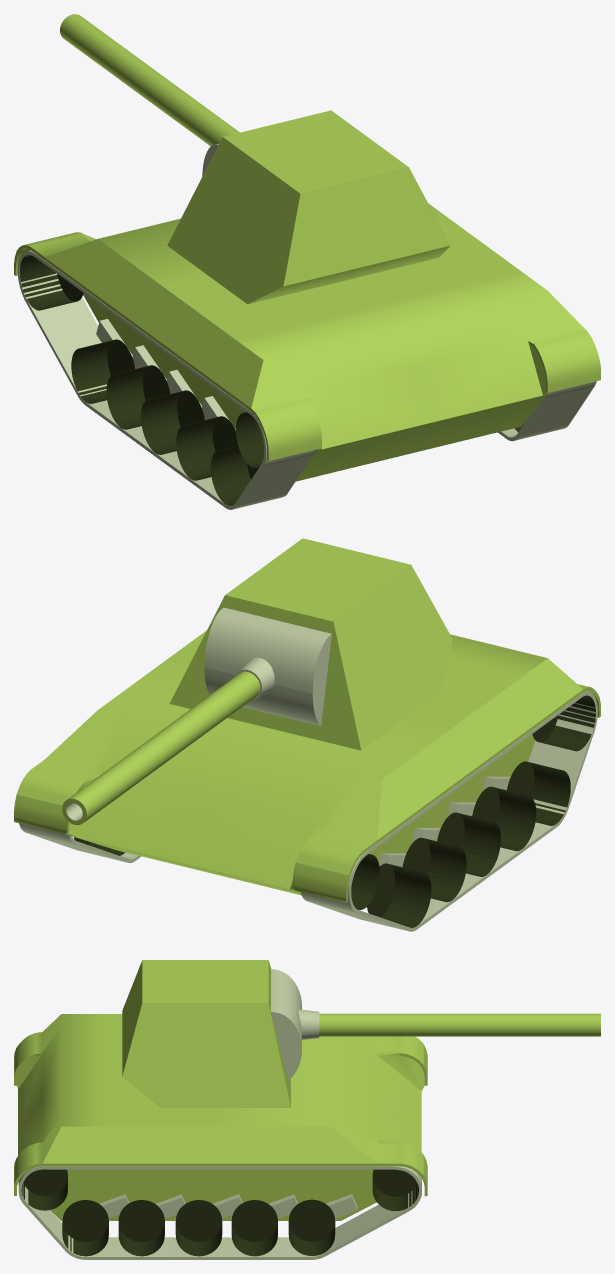
File: Tank_Enemy_03.glb
3 renders of one model, top to bottom at view 1: azimuth 30°, elevation 25°; view 2: azimuth 150°, elevation 25°; view 3: azimuth 270°, elevation 25°, orthographic. The views are drawn at different scales.
Visible parts, largest first — view 1: Tank_Body_Down, Tank_Body_Up; view 2: Tank_Body_Down, Tank_Body_Up; view 3: Tank_Body_Down, Tank_Body_Up.
Boxes of the visible parts, x1,y1,x2,y2 form: Tank_Body_Down: [14, 203, 600, 509]; Tank_Body_Up: [60, 14, 450, 304]; Tank_Body_Down: [14, 630, 600, 931]; Tank_Body_Up: [62, 538, 452, 824]; Tank_Body_Down: [14, 1014, 427, 1259]; Tank_Body_Up: [122, 960, 600, 1107].
Size of the model in its own units: 4.03 by 3.03 by 7.59.
